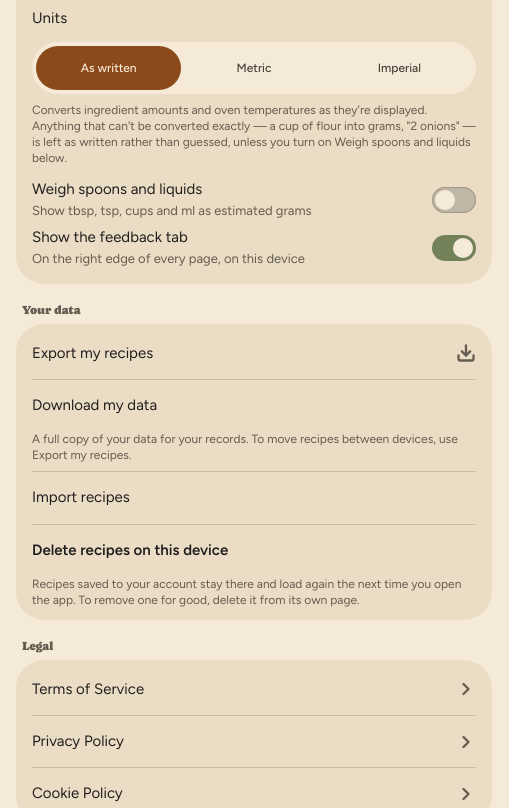
Settings: Download my data › starts one export for a double tap
(page scrolled)
Click the button "Download my data" at (95, 405), box [32, 380, 476, 431]
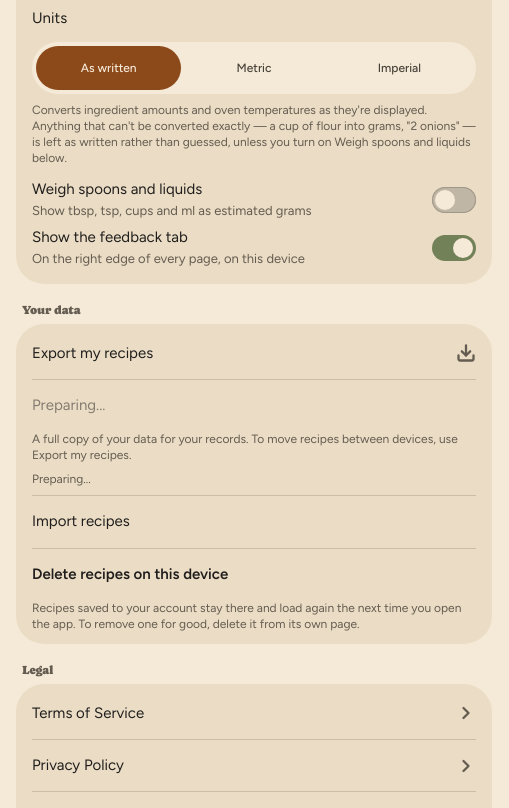
Click the button named "Download my data" at (69, 405), box [32, 380, 476, 431]
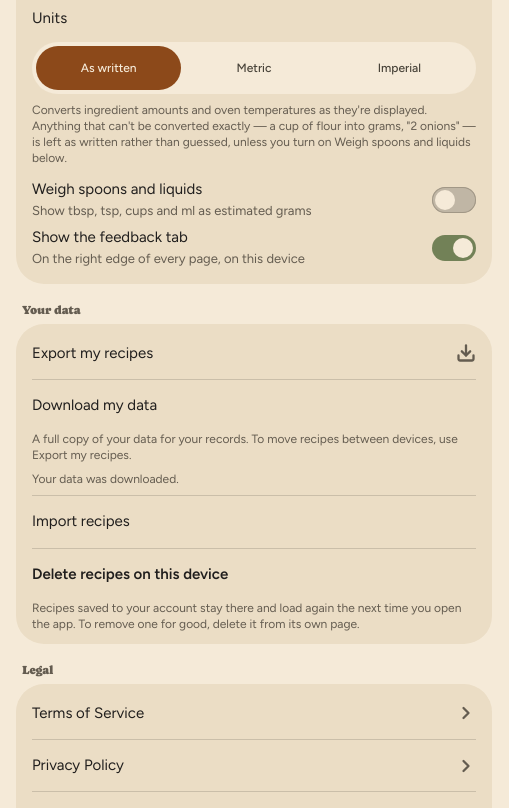
Now the message shows "downloaded", box [32, 472, 179, 486]
